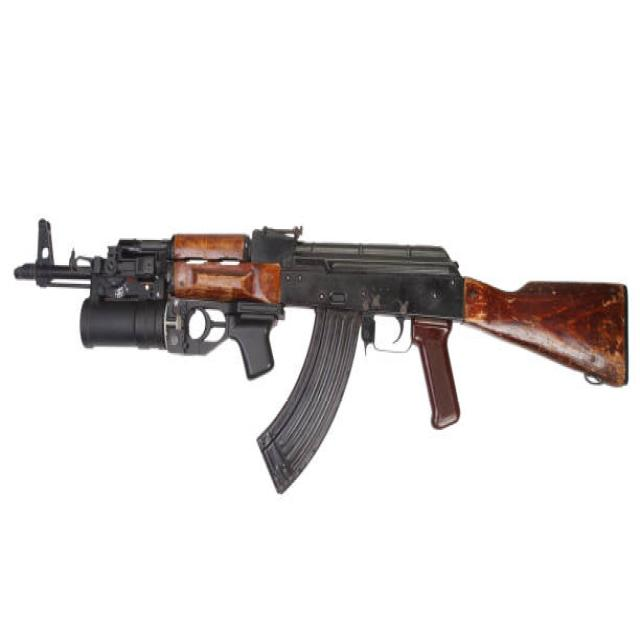rifle: (15, 209, 637, 509)
